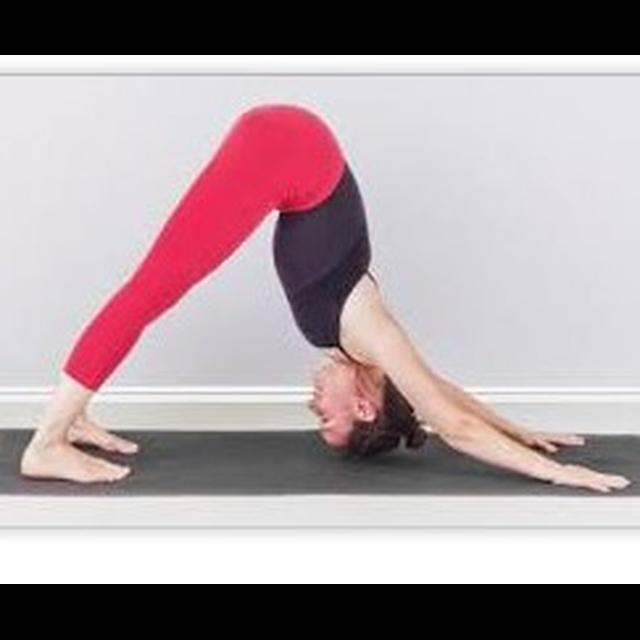Downward-Facing_Dog: (11, 94, 637, 504)
